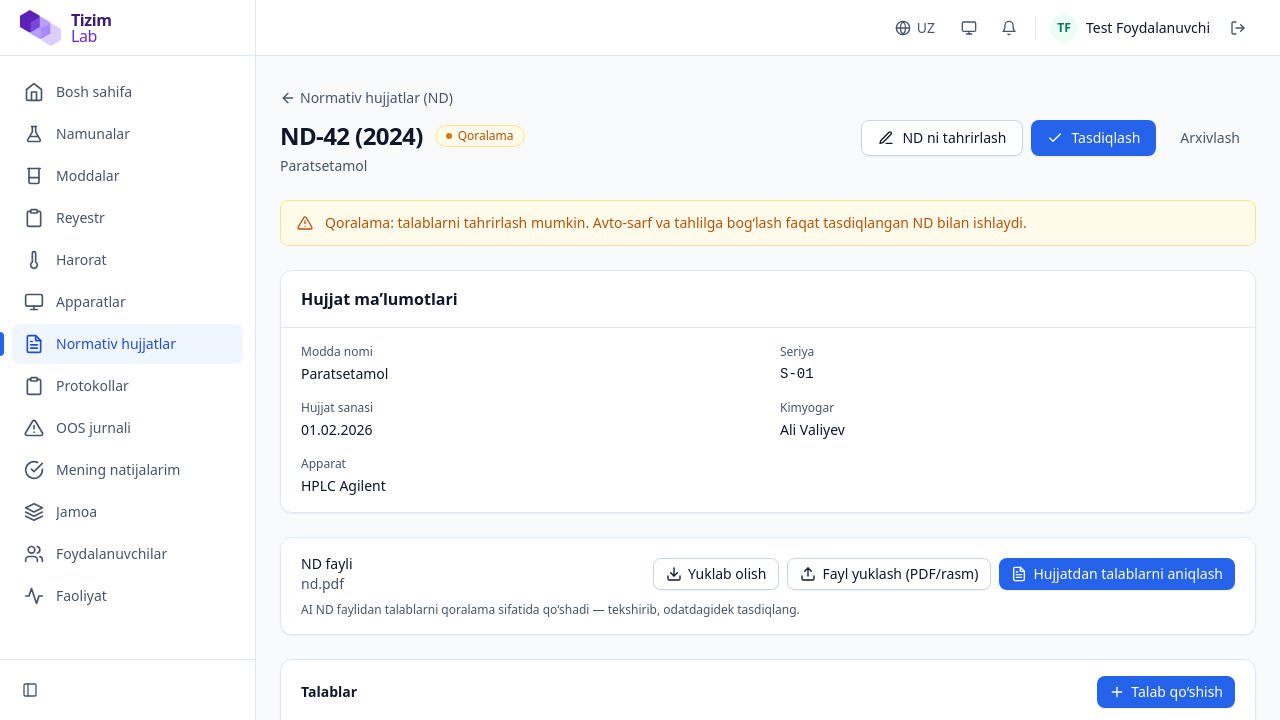
Test case: P18: ND — AI talablari va metadata › 409 ND_NOT_DRAFT — inline xabar
Click the button "Hujjatdan talablarni aniqlash" at (1117, 574), box [999,558,1235,590]
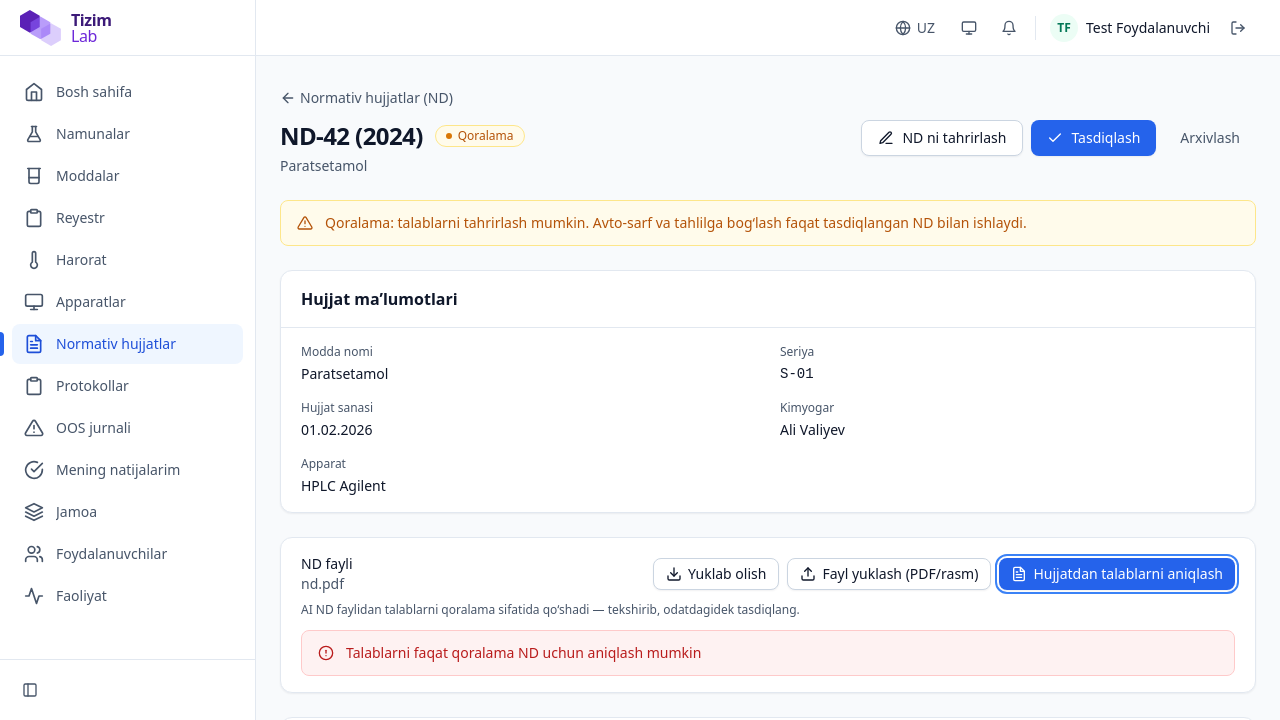
Now the text "Talablarni faqat qoralama ND uchun aniqlash mumkin" is shown, box [346,643,701,662]
